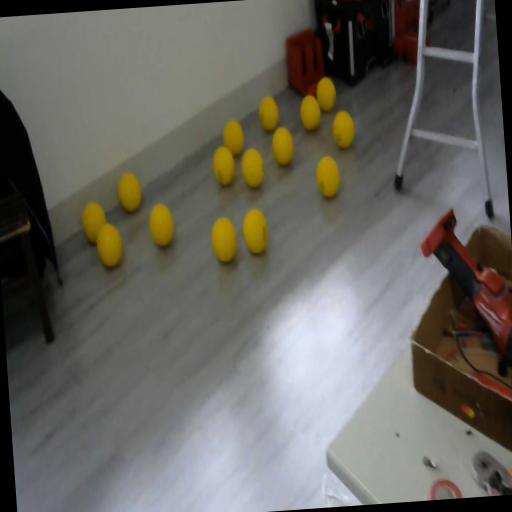FUEL: (209, 214, 239, 264), (240, 206, 270, 256), (146, 200, 176, 250), (94, 220, 124, 269), (314, 154, 341, 199), (211, 143, 237, 187), (270, 126, 296, 168), (330, 108, 356, 150), (116, 170, 142, 212), (240, 148, 266, 188), (222, 118, 246, 158), (298, 94, 322, 132), (257, 94, 280, 132), (315, 75, 337, 112)
